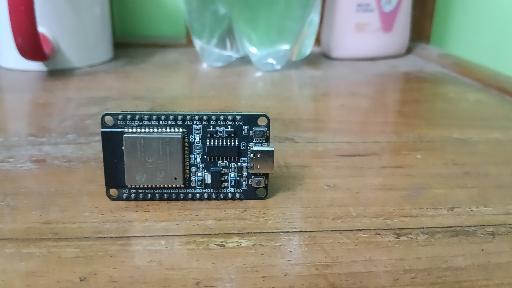Esp32: (100, 110, 274, 202)
